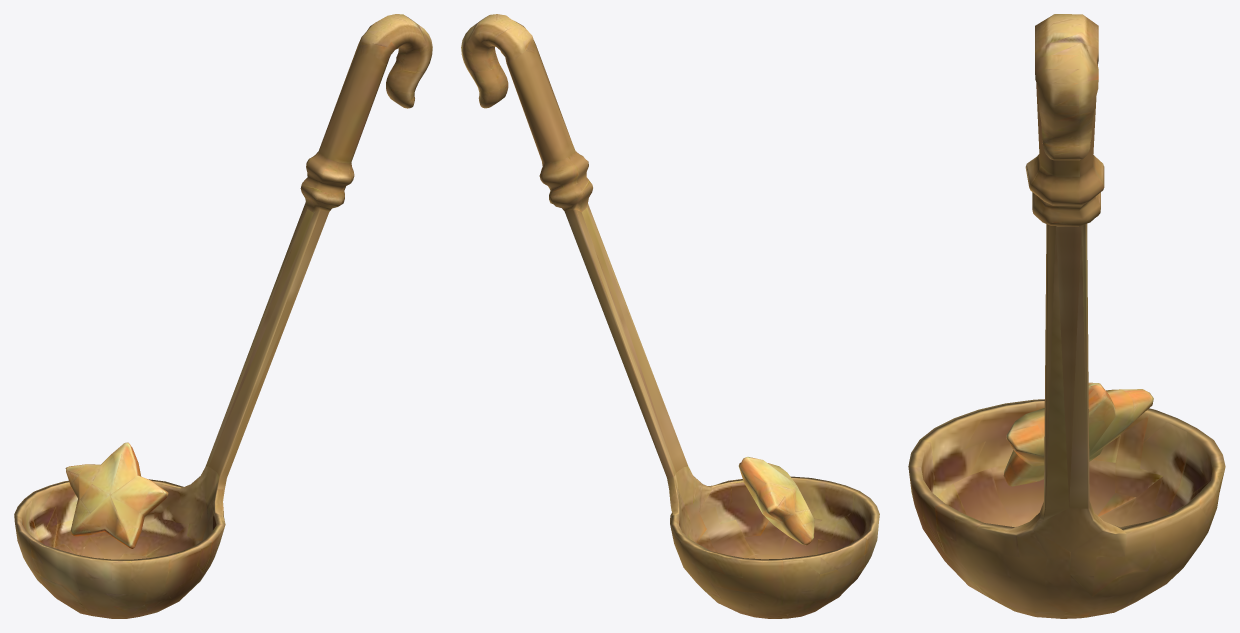
File: item-starLadle.glb
The picture shows the model from 3 angles, left to right: view 1: azimuth 30°, elevation 25°; view 2: azimuth 150°, elevation 25°; view 3: azimuth 270°, elevation 25°; orthographic projection. The views are drawn at different scales.
Bounding box in the file's own units: 0.7627 × 0.9517 × 0.3477.
Materials: 1 (1 with a texture image).
